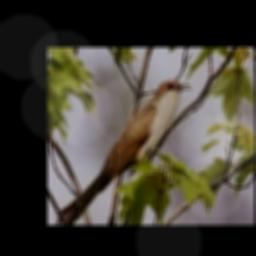Cuckoo: (54, 79, 192, 225)
